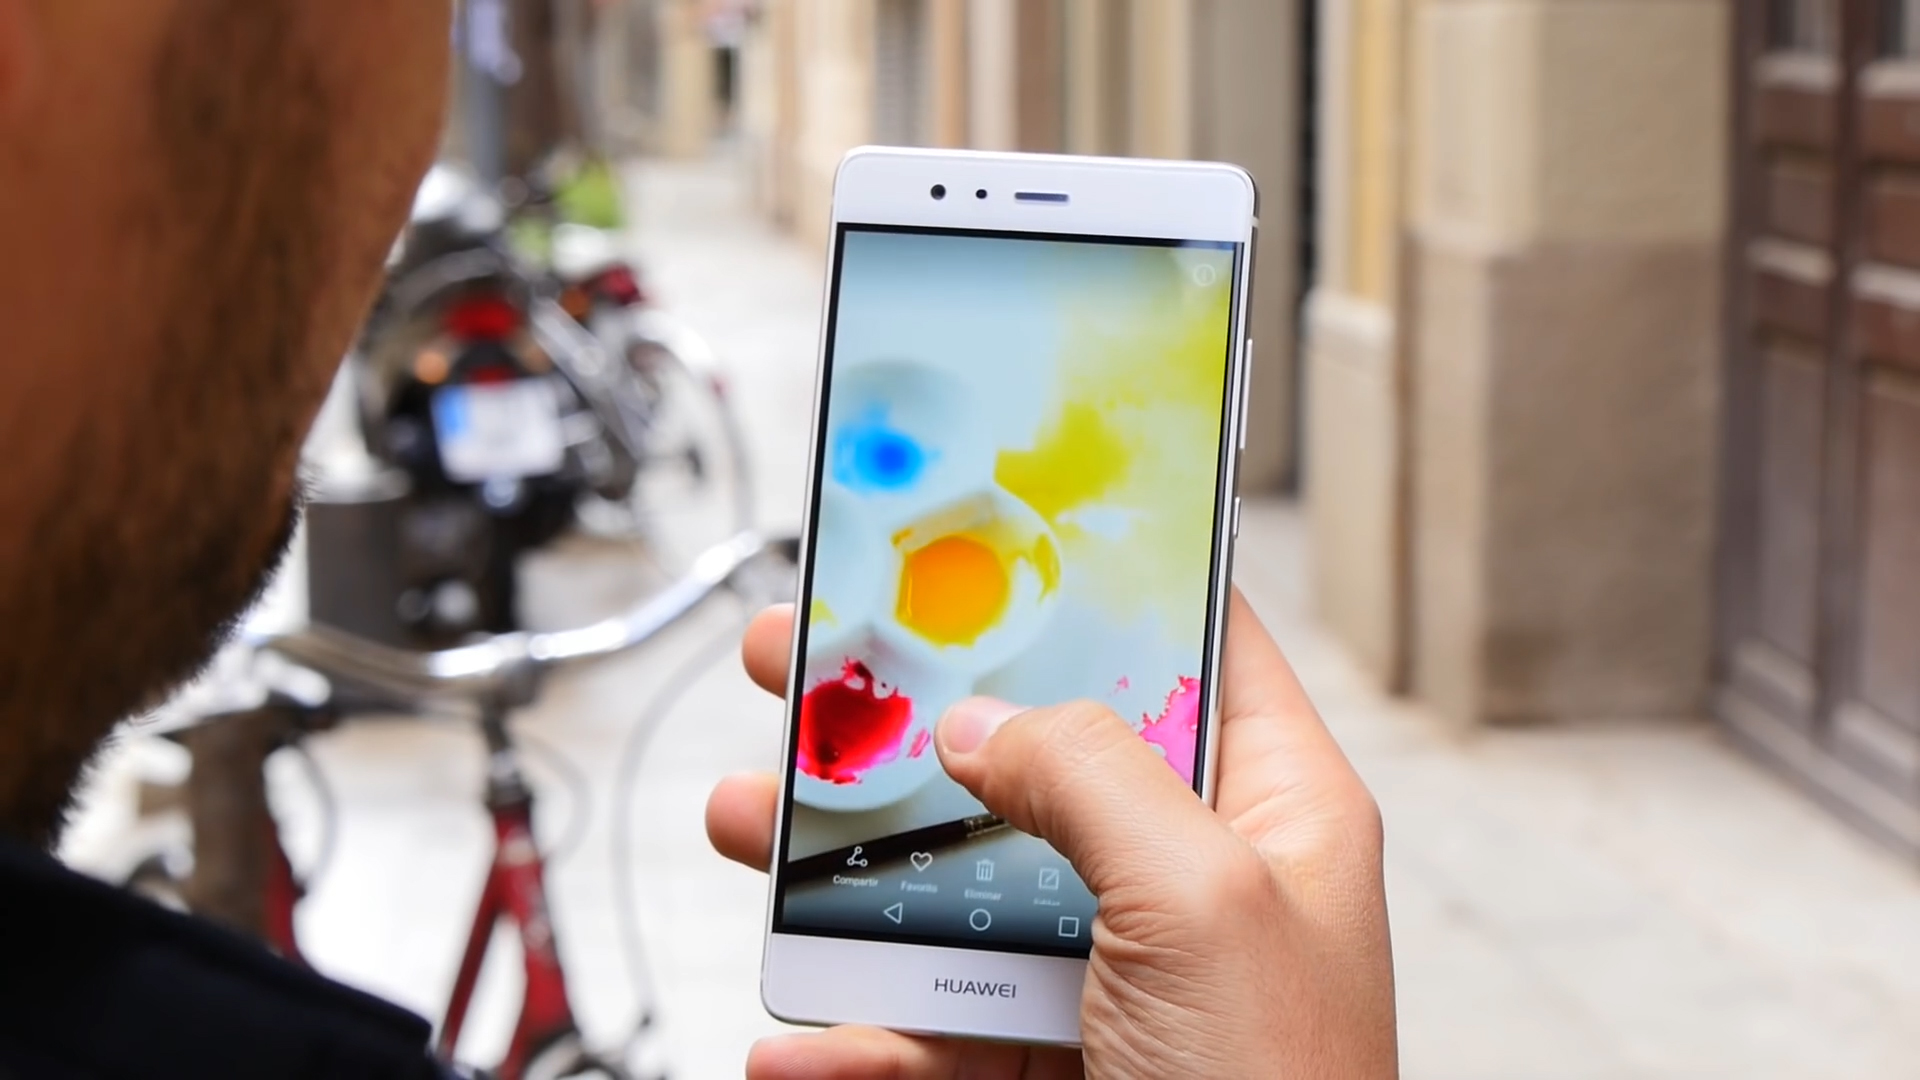smartphone: (756, 142, 1261, 1058)
